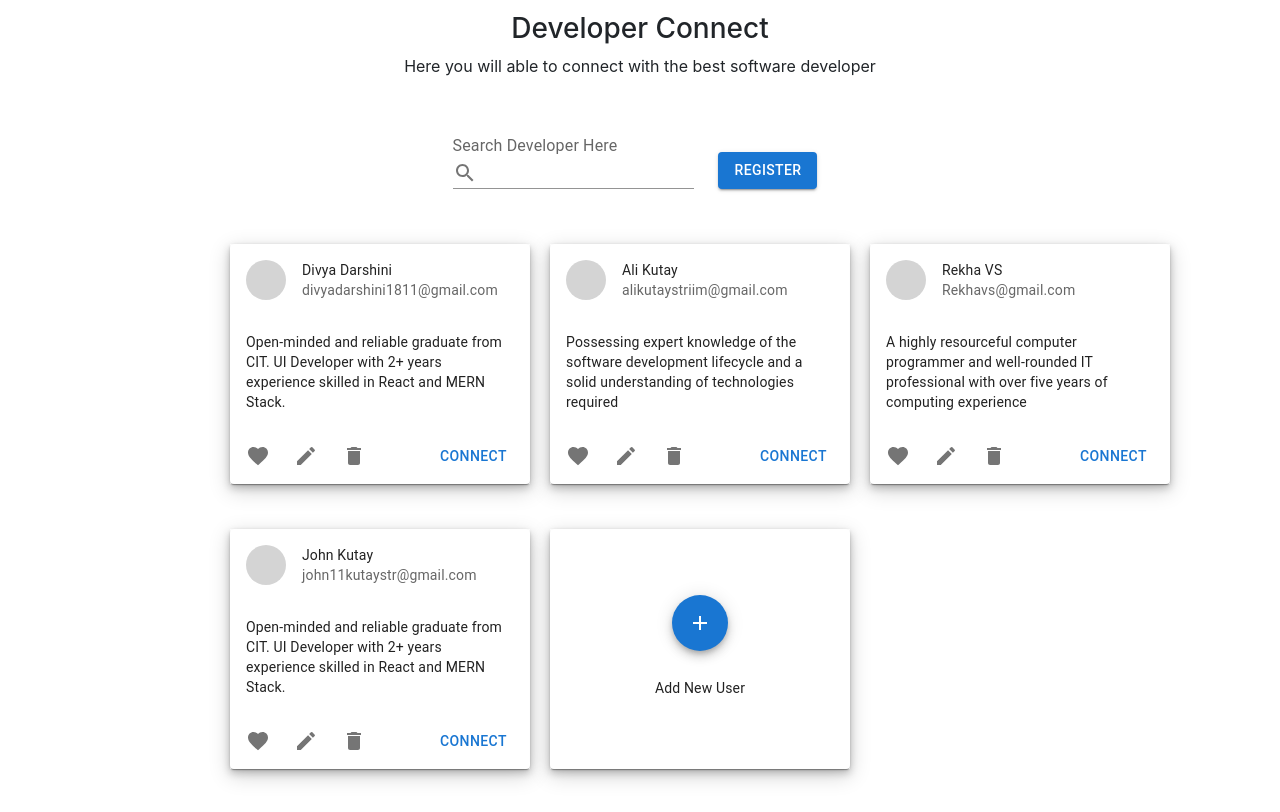
it: Register Test › Navigating to Register and Back
Click the button "Register" at coordinates (769, 171), box [719,152,818,189]
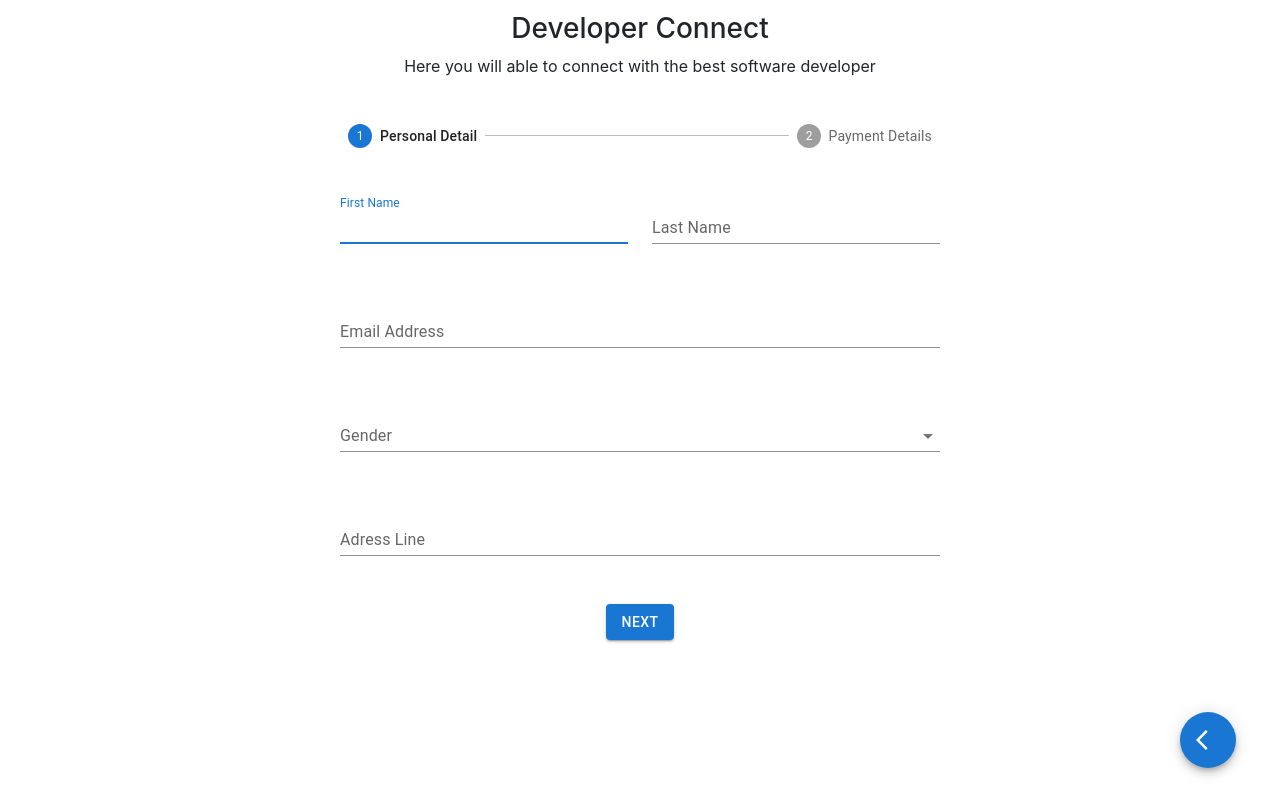
expect the text "Personal Detail" is shown: met, box [380,126,477,146]
Click the 2nd button at coordinates (1208, 740), box [1180,712,1236,768]
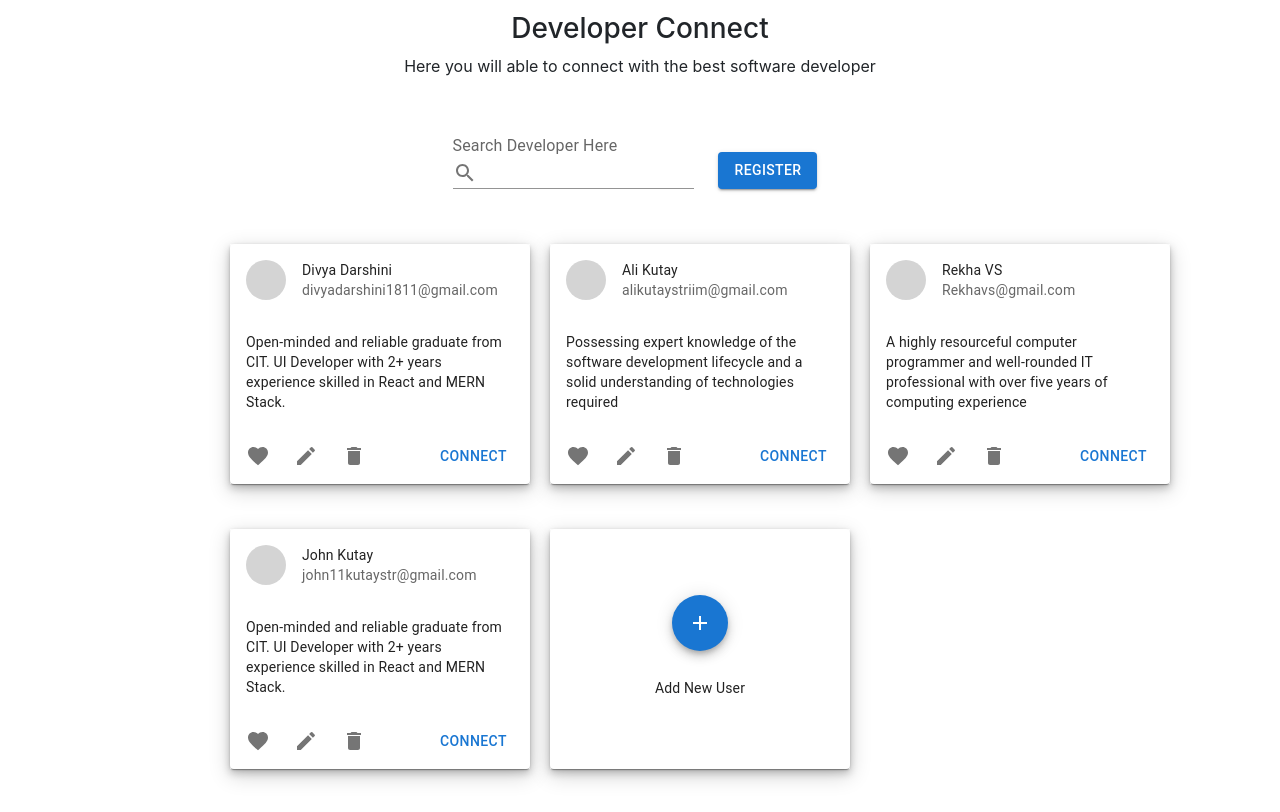
expect the button "Register" is shown: met, box [718,152,818,189]
